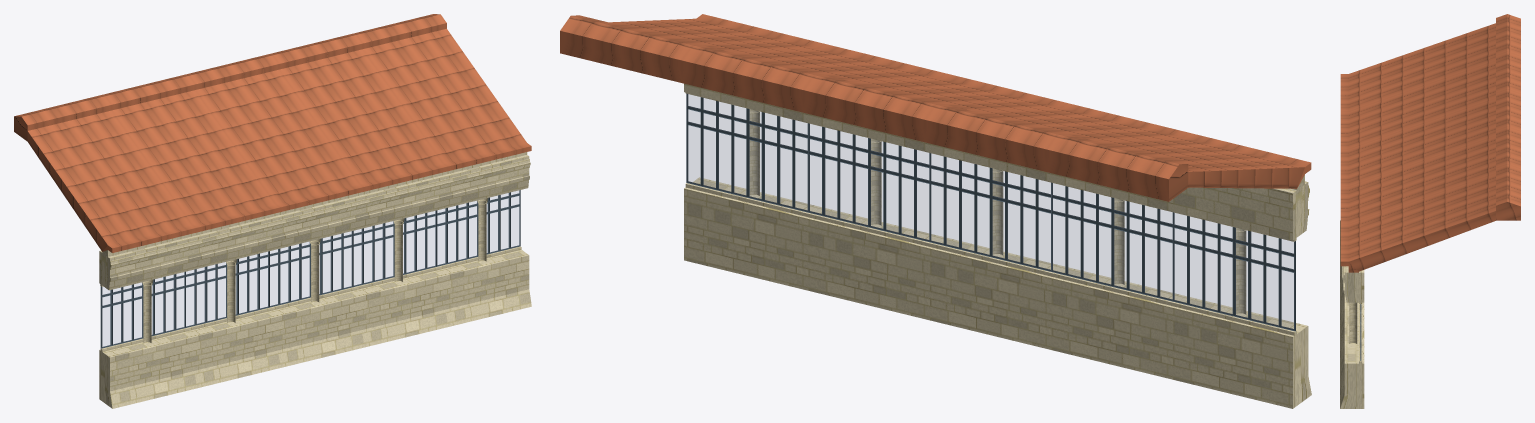
The model's file is Gallery.gltf.
The picture shows the model from 3 angles, left to right: view 1: azimuth 30°, elevation 25°; view 2: azimuth 150°, elevation 25°; view 3: azimuth 270°, elevation 25°; orthographic projection. The views are drawn at different scales.
Parts seen in each view (by area): view 1: Cube.023; view 2: Cube.023; view 3: Cube.023.
Part boxes in pixels (x1,y1,x2,y2): Cube.023: (14, 14, 531, 408); Cube.023: (560, 14, 1311, 408); Cube.023: (1340, 14, 1520, 408).
Bounding box in the file's own units: 20.17 × 10.37 × 8.2.
4 materials, 2 textured.
